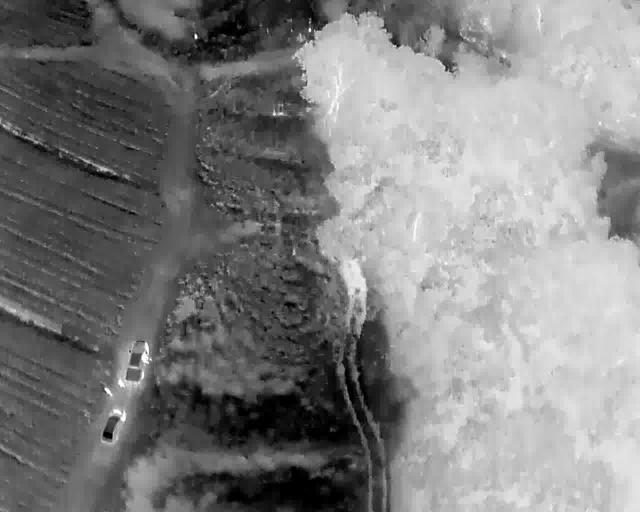car: (124, 340, 149, 382), (100, 408, 126, 444)
person: (104, 387, 112, 395), (117, 379, 124, 387)
